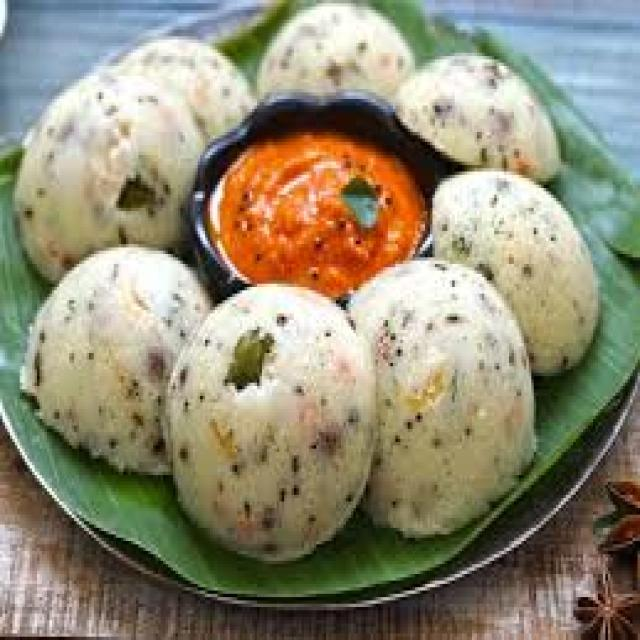IDLI: (168, 284, 373, 558), (346, 261, 534, 534), (20, 244, 210, 472), (17, 63, 203, 277), (432, 168, 598, 373), (395, 56, 558, 178), (257, 0, 413, 96), (119, 36, 255, 142)
